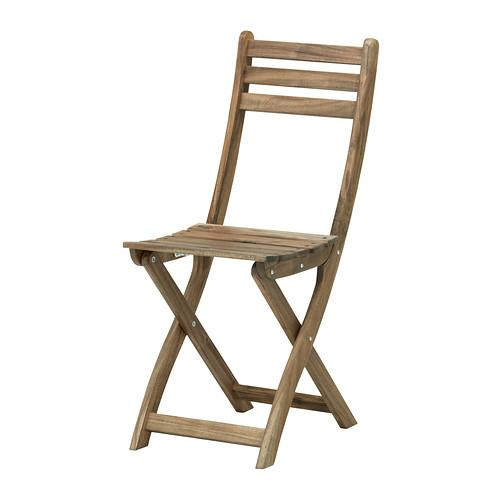chair: (119, 29, 382, 468)
